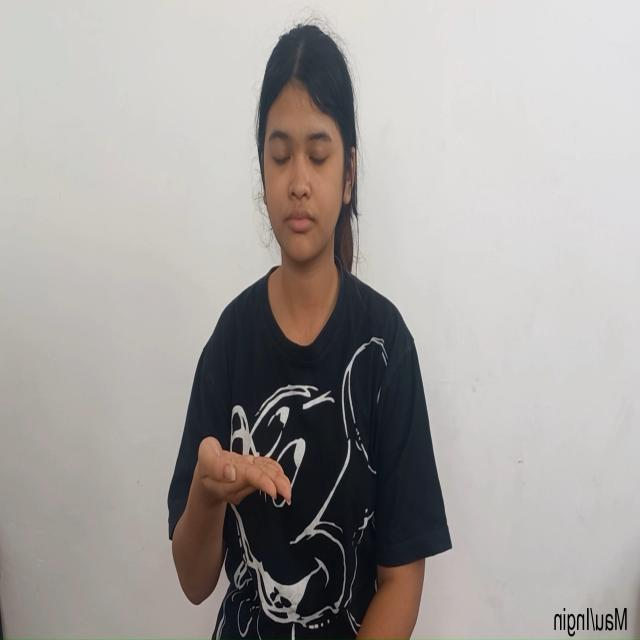Mau-Ingin -BISINDO-: (171, 434, 293, 607)
